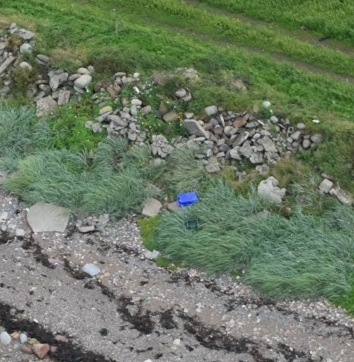white_in_green: (159, 170, 218, 222)
